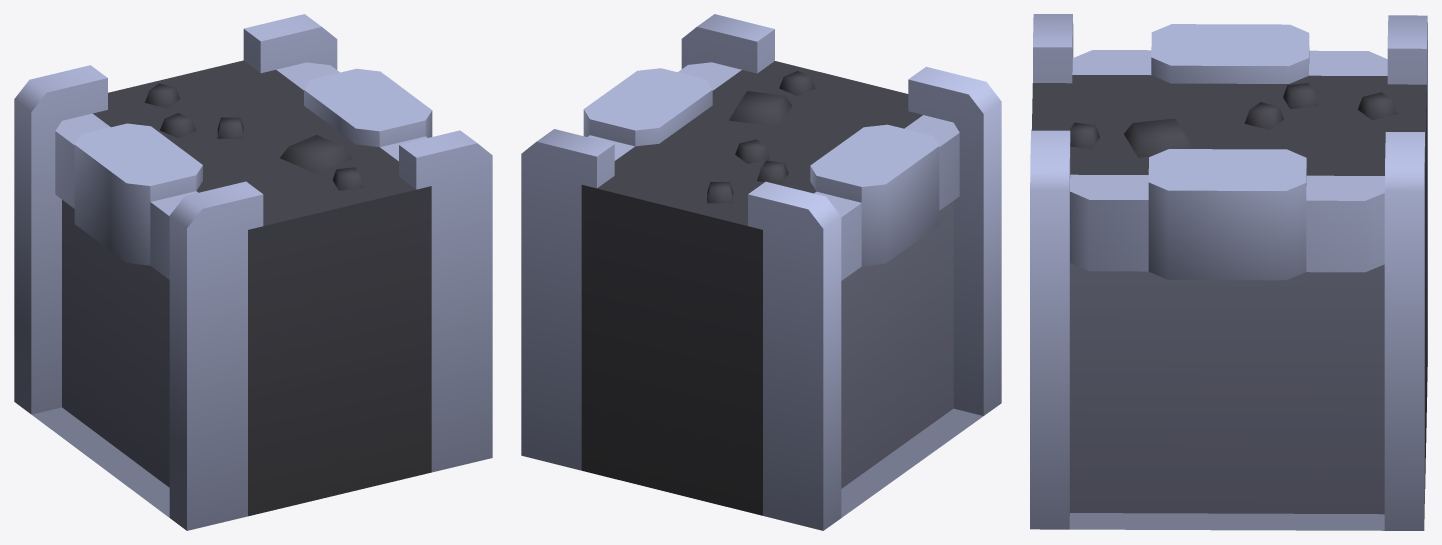
File: wall-narrow.016_lev5.glb
3 views of the same model, side by side, from view 1: azimuth 30°, elevation 25°; view 2: azimuth 150°, elevation 25°; view 3: azimuth 270°, elevation 25° (orthographic). The views are drawn at different scales.
Visible parts, largest first — view 1: wall-narrow.016_lev5; view 2: wall-narrow.016_lev5; view 3: wall-narrow.016_lev5.
Boxes of the visible parts, x1,y1,x2,y2 form: wall-narrow.016_lev5: (14, 14, 492, 530); wall-narrow.016_lev5: (521, 14, 1001, 530); wall-narrow.016_lev5: (1030, 14, 1427, 530).
Bounding box in the file's own units: 5.05 × 5 × 5.05.
1 material, 1 textured.
